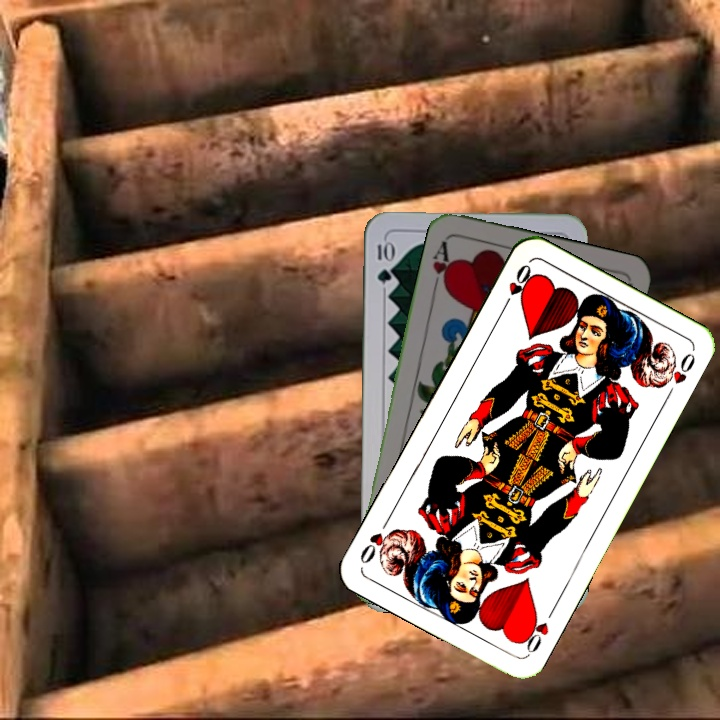G10: (373, 237, 393, 286)
HA: (428, 237, 456, 294)
HO: (516, 603, 558, 657), (498, 260, 535, 313)
